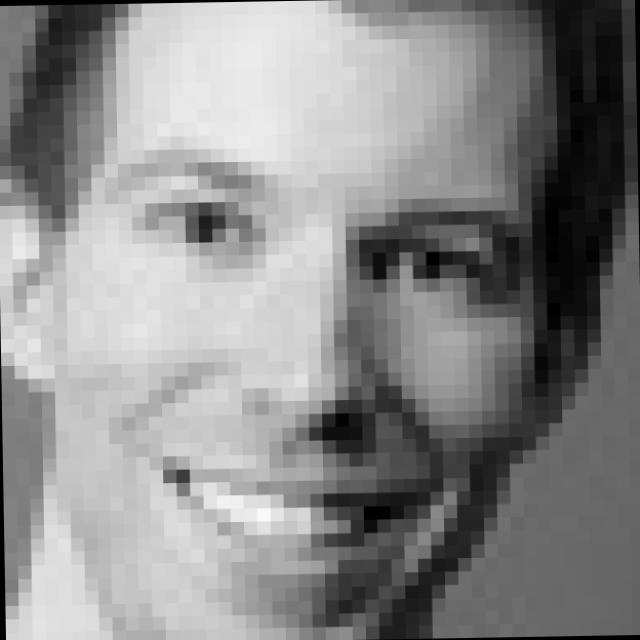happy: (101, 134, 528, 594)
